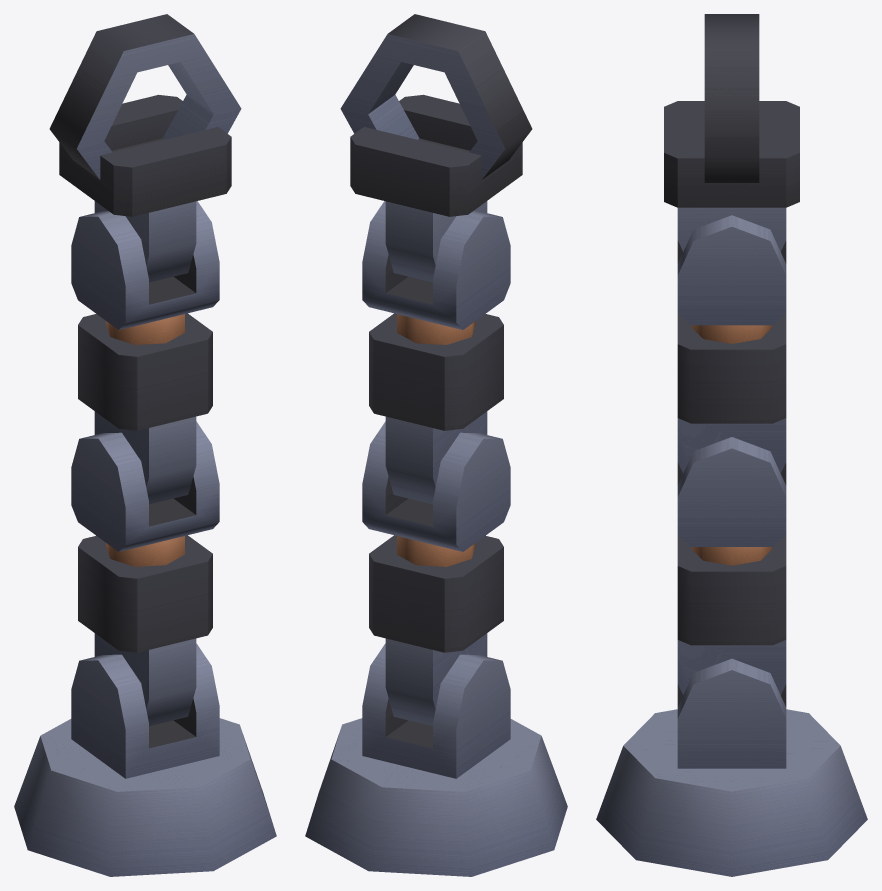
The model's file is robot-arm-a.glb.
3 views of the same model, side by side, from view 1: azimuth 30°, elevation 25°; view 2: azimuth 150°, elevation 25°; view 3: azimuth 270°, elevation 25° (orthographic).
Visible parts, largest first — view 1: robot-arm-a, element-b, element-d, element-f, element-a, element-c, element-e, claw-b, claw-a; view 2: robot-arm-a, element-b, element-d, element-f, element-a, element-c, element-e, claw-b, claw-a; view 3: robot-arm-a, element-d, element-b, element-f, element-a, element-e, element-c, claw-a, claw-b.
Boxes of the visible parts, <box> form: robot-arm-a: <box>14,718,276,876</box>; element-b: <box>78,535,212,726</box>; element-d: <box>78,313,212,504</box>; element-f: <box>59,94,231,282</box>; element-a: <box>71,643,219,778</box>; element-c: <box>71,421,219,551</box>; element-e: <box>71,201,219,329</box>; claw-b: <box>49,22,158,179</box>; claw-a: <box>132,14,241,139</box>; robot-arm-a: <box>305,718,567,876</box>; element-b: <box>369,535,503,726</box>; element-d: <box>369,313,503,504</box>; element-f: <box>350,94,522,282</box>; element-a: <box>362,643,510,778</box>; element-c: <box>362,421,510,551</box>; element-e: <box>362,201,510,329</box>; claw-b: <box>423,22,532,179</box>; claw-a: <box>340,14,449,139</box>; robot-arm-a: <box>596,709,867,876</box>; element-d: <box>677,313,786,473</box>; element-b: <box>677,535,786,694</box>; element-f: <box>664,101,799,251</box>; element-a: <box>677,658,786,768</box>; element-e: <box>677,215,786,325</box>; element-c: <box>677,437,786,546</box>; claw-a: <box>704,31,759,182</box>; claw-b: <box>704,14,759,31</box>.
Bounding box in the file's own units: 1 × 3.2 × 1.
Materials: 1 (1 with a texture image).
